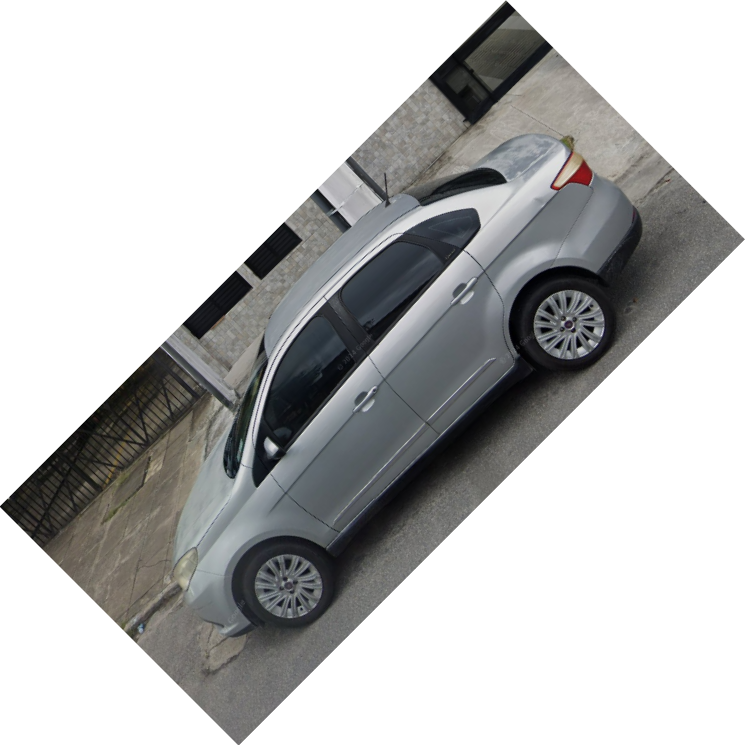car: (165, 135, 652, 633)
